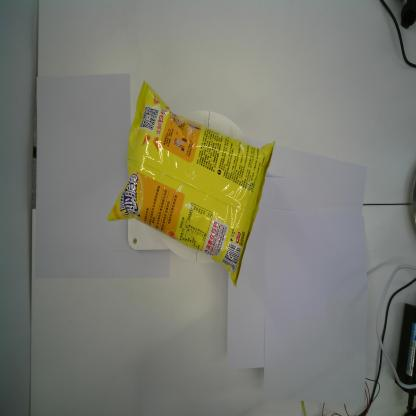Puffed Food: (105, 78, 277, 290)
